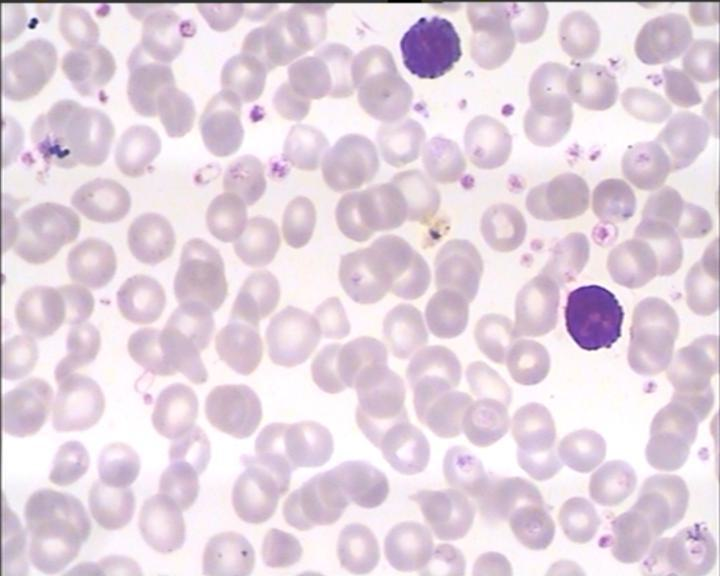baso: (391, 11, 462, 86), (560, 284, 627, 357)
